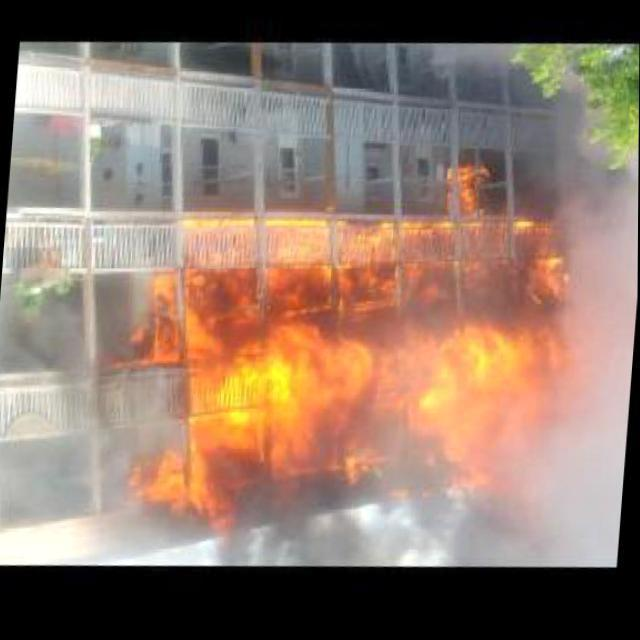fire: (158, 303, 562, 509), (151, 190, 579, 326), (0, 278, 160, 574), (528, 86, 640, 392), (224, 476, 516, 590), (302, 274, 566, 366), (120, 451, 234, 542), (406, 43, 536, 101), (440, 153, 508, 235)
